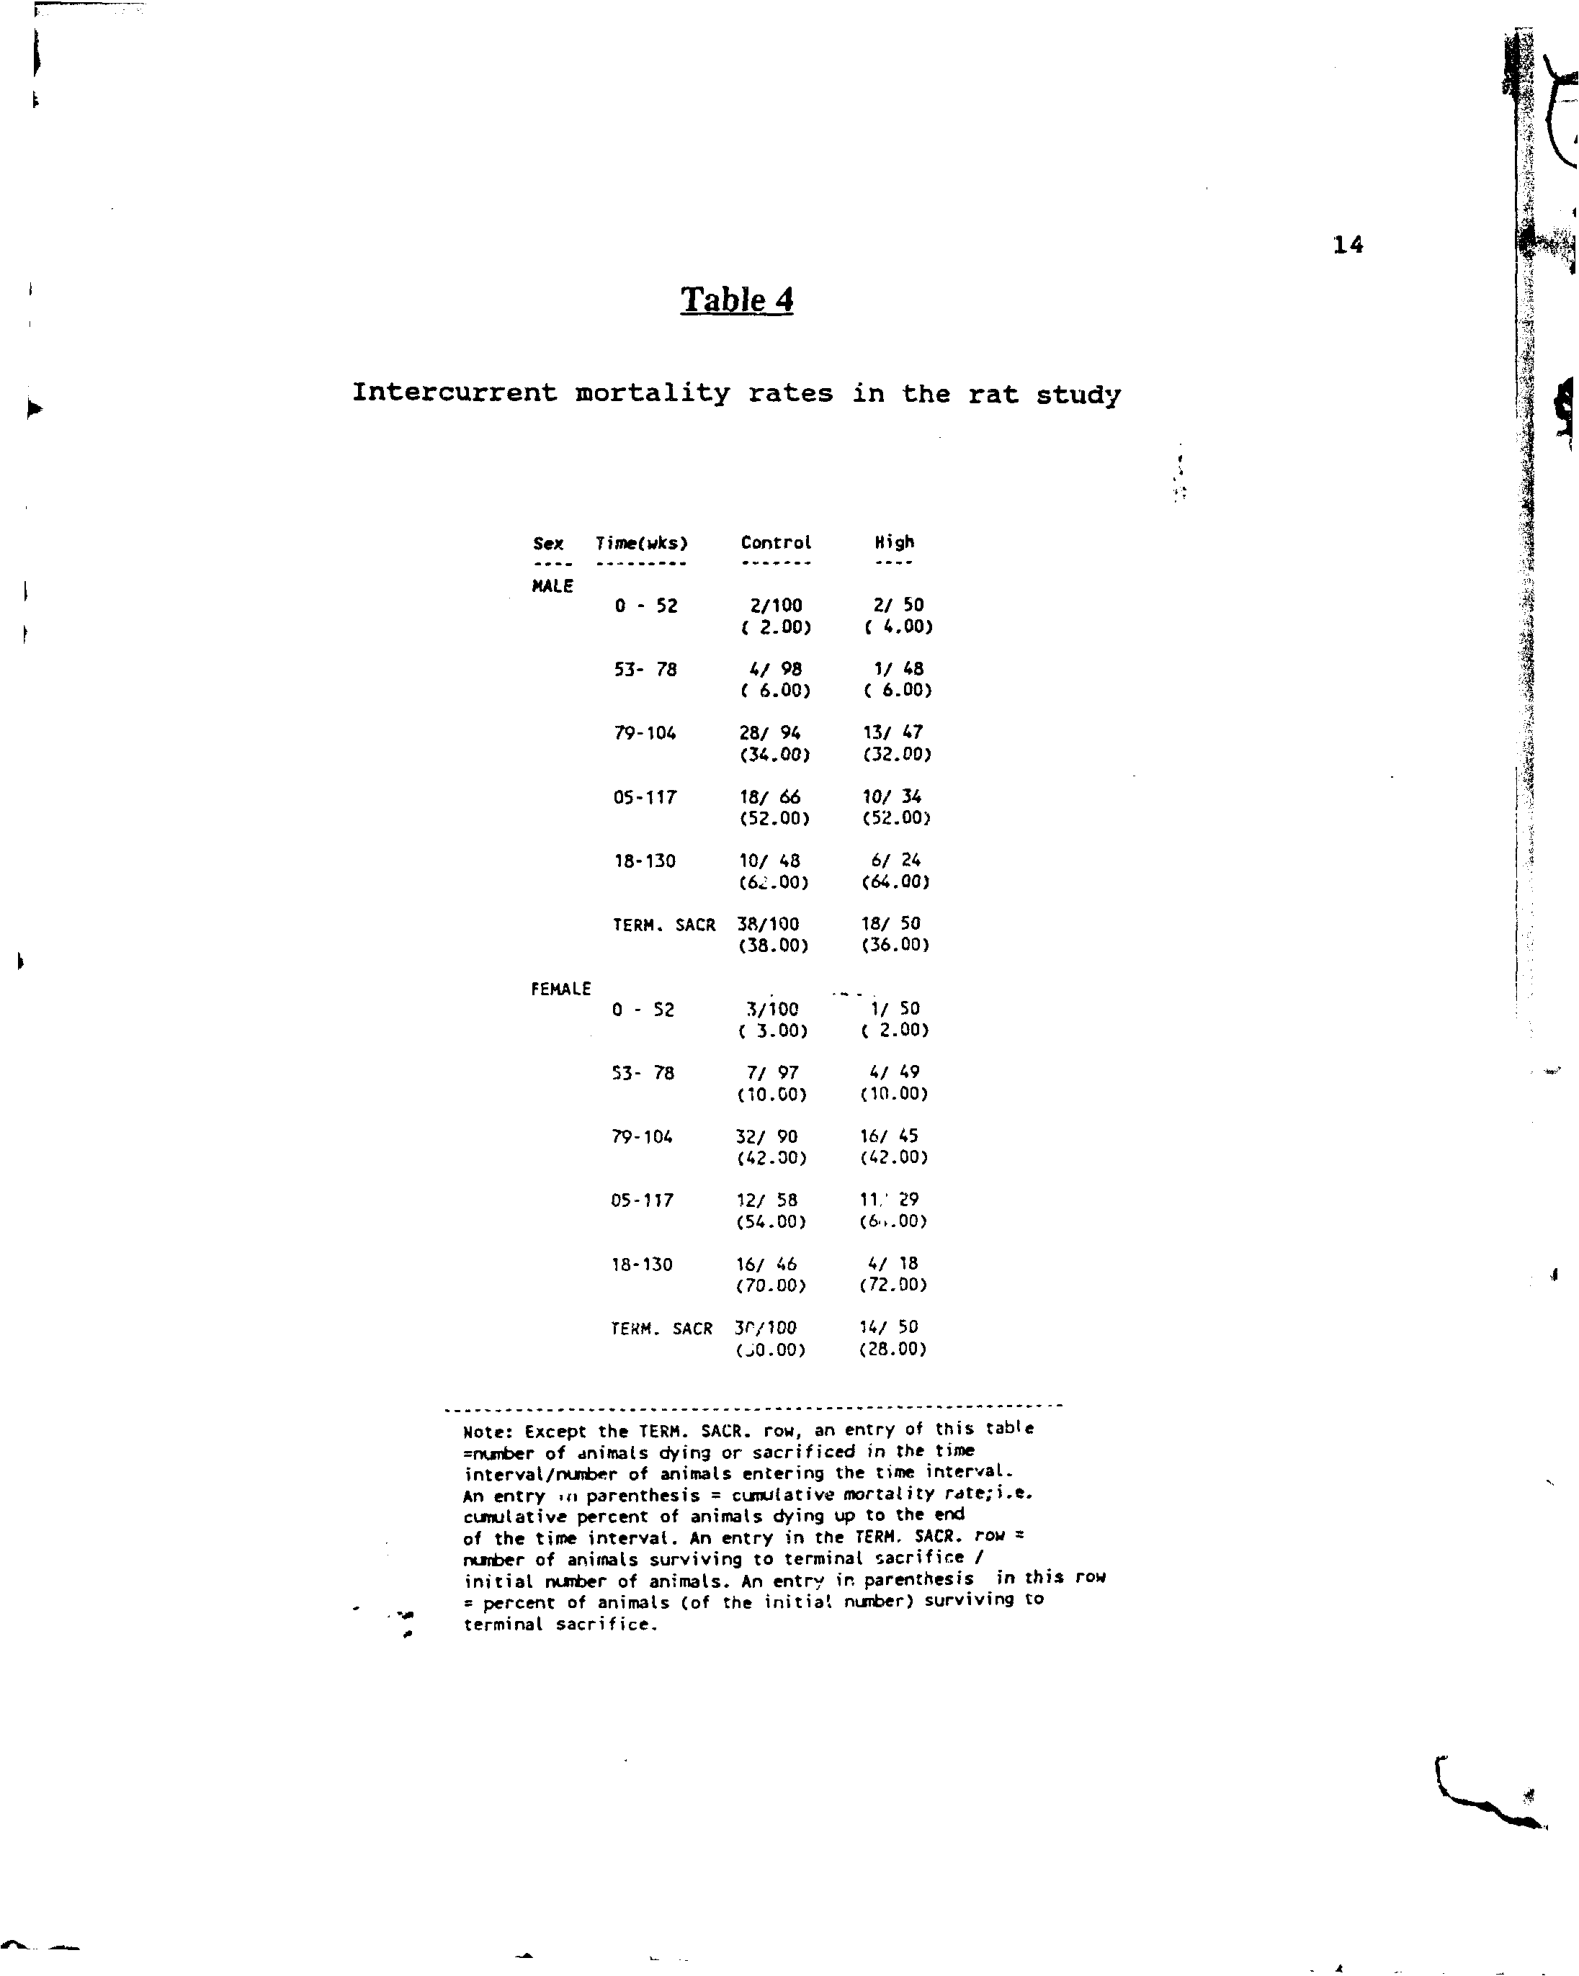nolines: (528, 531, 935, 1361)
